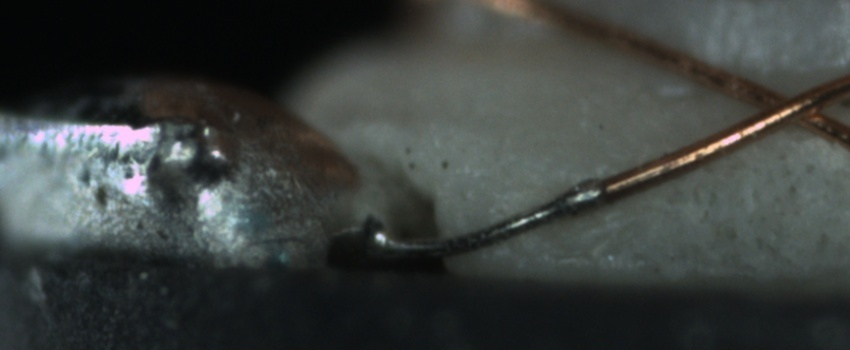CL: (719, 71, 847, 138)
TS: (372, 178, 607, 258)
TTCW: (359, 158, 667, 263)
